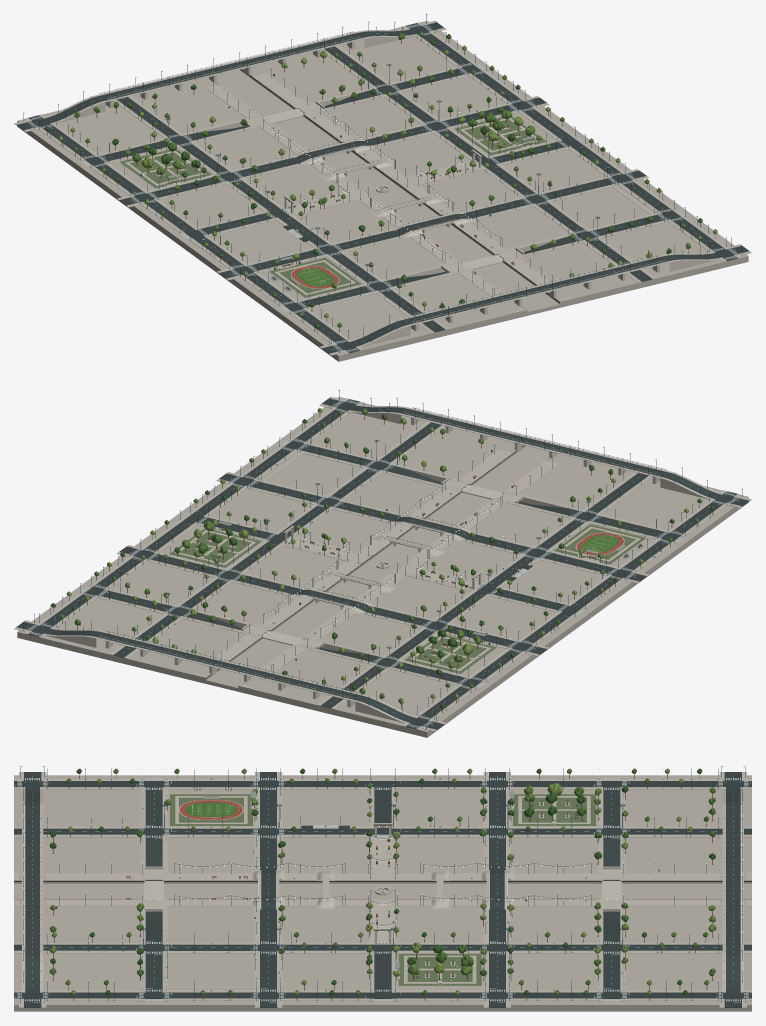
File: world_ground.glb
The picture shows the model from 3 angles, top to bottom: view 1: azimuth 30°, elevation 25°; view 2: azimuth 150°, elevation 25°; view 3: azimuth 270°, elevation 25°; orthographic projection. The views are drawn at different scales.
Visible parts, largest first — view 1: Ground_c2_0, Ground_c0_3, Ground_c2_3, Ground_c1_0, Ground_c0_2, Ground_c0_1, Ground_c0_0, Ground_c1_3, Ground_c3_3, Ground_c2_2, Ground_c3_0, Ground_c3_2 (+4 smaller); view 2: Ground_c0_0, Ground_c2_3, Ground_c2_0, Ground_c1_3, Ground_c0_3, Ground_c0_2, Ground_c3_0, Ground_c1_0, Ground_c0_1, Ground_c2_1, Ground_c3_3, Ground_c2_2 (+4 smaller); view 3: Ground_c3_0, Ground_c3_3, Ground_c3_1, Ground_c3_2, Ground_c1_3, Ground_c1_0, Ground_c1_1, Ground_c1_2, Ground_c0_2, Ground_c0_1, Ground_c0_0, Ground_c2_2 (+4 smaller).
Boxes of the visible parts, x1,y1,x2,y2 form: Ground_c2_0: (223, 33, 404, 131); Ground_c0_3: (258, 263, 439, 361); Ground_c2_3: (463, 215, 647, 311); Ground_c1_0: (122, 58, 302, 154); Ground_c0_2: (178, 212, 359, 302); Ground_c0_1: (97, 151, 278, 243); Ground_c0_0: (14, 83, 198, 184); Ground_c1_3: (360, 249, 543, 336); Ground_c3_3: (567, 191, 751, 286); Ground_c2_2: (385, 153, 566, 249); Ground_c3_0: (329, 14, 507, 103); Ground_c3_2: (487, 134, 667, 221); Ground_c0_0: (326, 642, 507, 737); Ground_c2_3: (360, 409, 542, 507); Ground_c2_0: (118, 591, 302, 687); Ground_c1_3: (463, 434, 643, 530); Ground_c0_3: (567, 459, 751, 560); Ground_c0_2: (487, 530, 668, 619); Ground_c3_0: (14, 567, 198, 662); Ground_c1_0: (222, 625, 405, 712); Ground_c0_1: (406, 573, 587, 678); Ground_c2_1: (202, 529, 380, 625); Ground_c3_3: (258, 390, 436, 479); Ground_c2_2: (279, 480, 462, 565); Ground_c3_0: (567, 927, 751, 1011); Ground_c3_3: (14, 927, 198, 1011); Ground_c3_1: (383, 927, 567, 1011); Ground_c3_2: (198, 927, 382, 1011); Ground_c1_3: (14, 817, 198, 892); Ground_c1_0: (567, 817, 751, 892); Ground_c1_1: (383, 823, 569, 892); Ground_c1_2: (196, 823, 385, 892); Ground_c0_2: (179, 768, 382, 831); Ground_c0_1: (383, 768, 567, 831); Ground_c0_0: (567, 766, 751, 831); Ground_c2_2: (196, 885, 385, 947).
Bounding box in the file's own units: 195 × 11.97 × 258.
